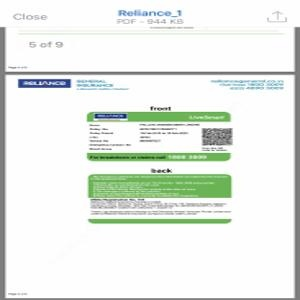image: (15, 77, 75, 89)
text: (89, 123, 200, 151), (87, 197, 233, 218), (202, 74, 291, 91), (76, 79, 128, 92)
